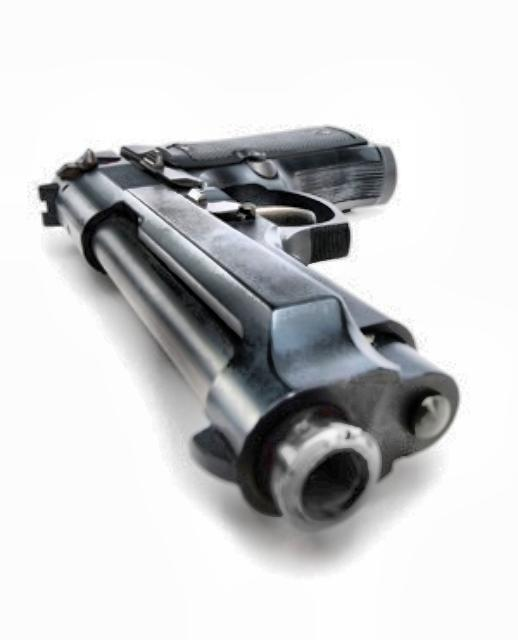pistol: (27, 119, 478, 527)
